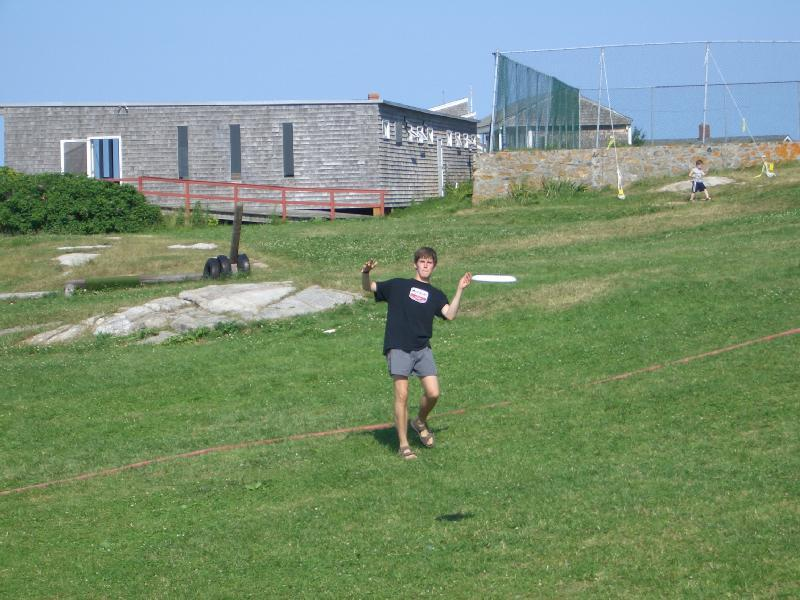person: (361, 245, 475, 461)
